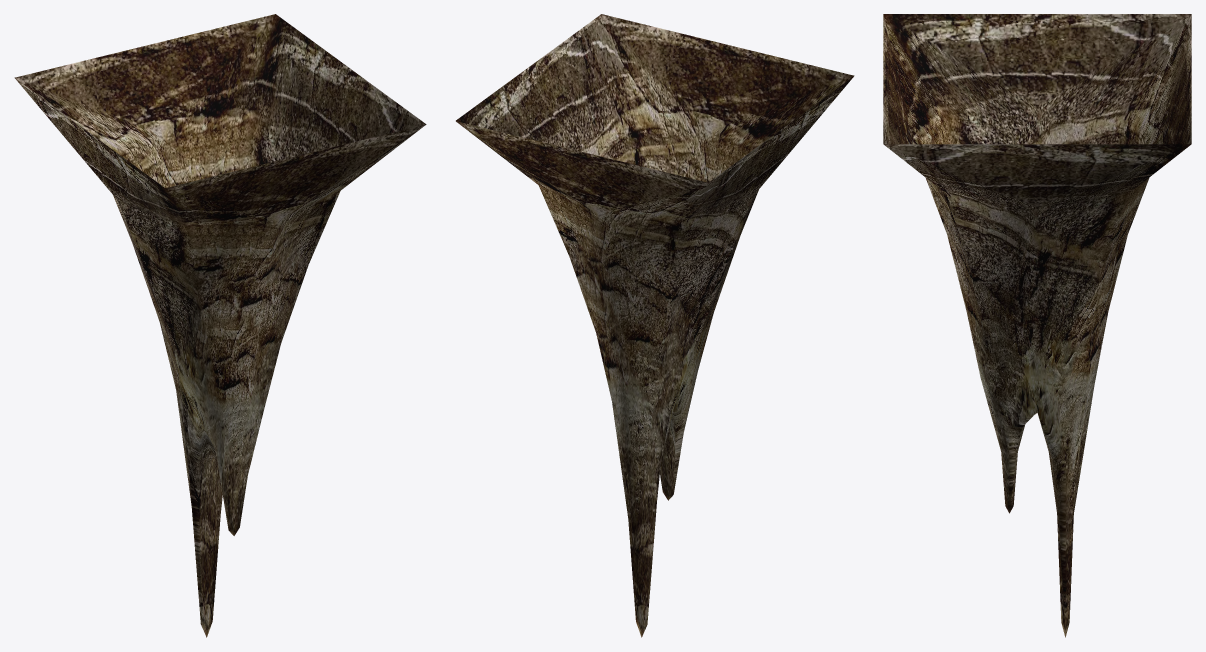
The model's file is STALAG_V02.glb.
3 renders of one model, left to right at view 1: azimuth 30°, elevation 25°; view 2: azimuth 150°, elevation 25°; view 3: azimuth 270°, elevation 25°, orthographic. The views are drawn at different scales.
Visible parts, largest first — view 1: Mesh; view 2: Mesh; view 3: Mesh.
Boxes of the visible parts, x1=… form: Mesh: x1=14, y1=14, x2=426, y2=637; Mesh: x1=456, y1=14, x2=854, y2=637; Mesh: x1=883, y1=14, x2=1191, y2=637.
Size of the model in its own units: 3.05 by 6.11 by 3.05.
1 material, 1 textured.
